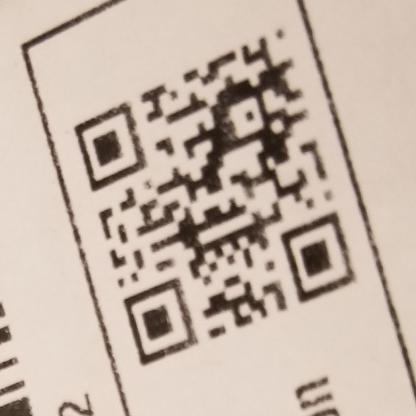barcode: (1, 288, 43, 416)
qr: (58, 25, 359, 367)
